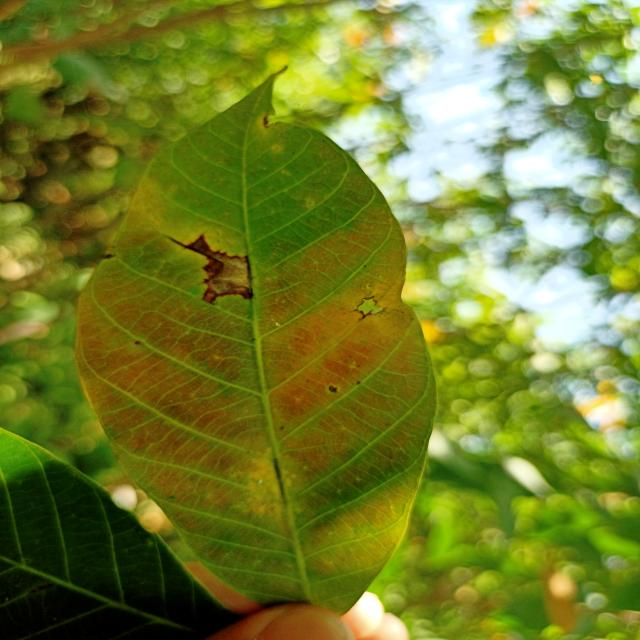Corynespora: (166, 233, 226, 265)
Leaf-Blight: (210, 257, 253, 294)
